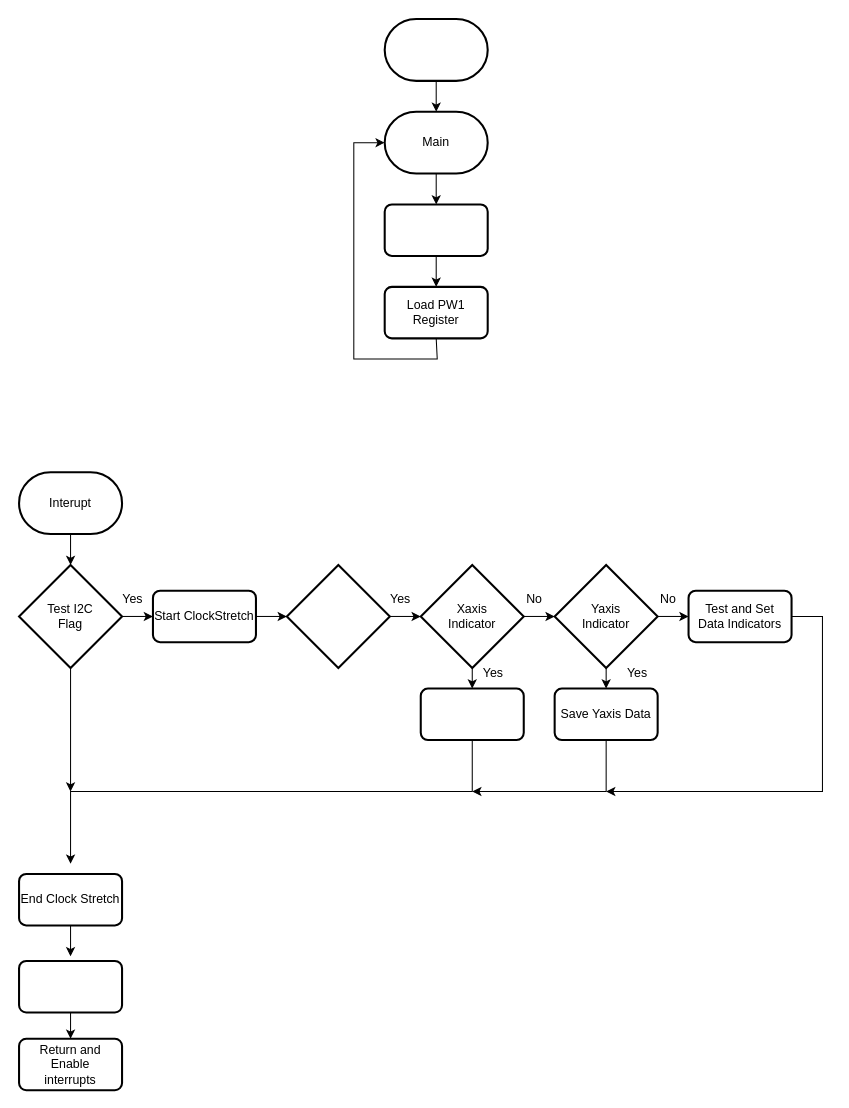
This 849x1108 diagram has some shape labels left out. Here are the shapes that lost their labels. From the top down, the centre of each, then its label:
(x=435, y=49): Setup
(x=435, y=229): Load PW2 Regisster
(x=337, y=615): Data
(x=471, y=714): Save Xaxis Data
(x=70, y=986): Reload Data
